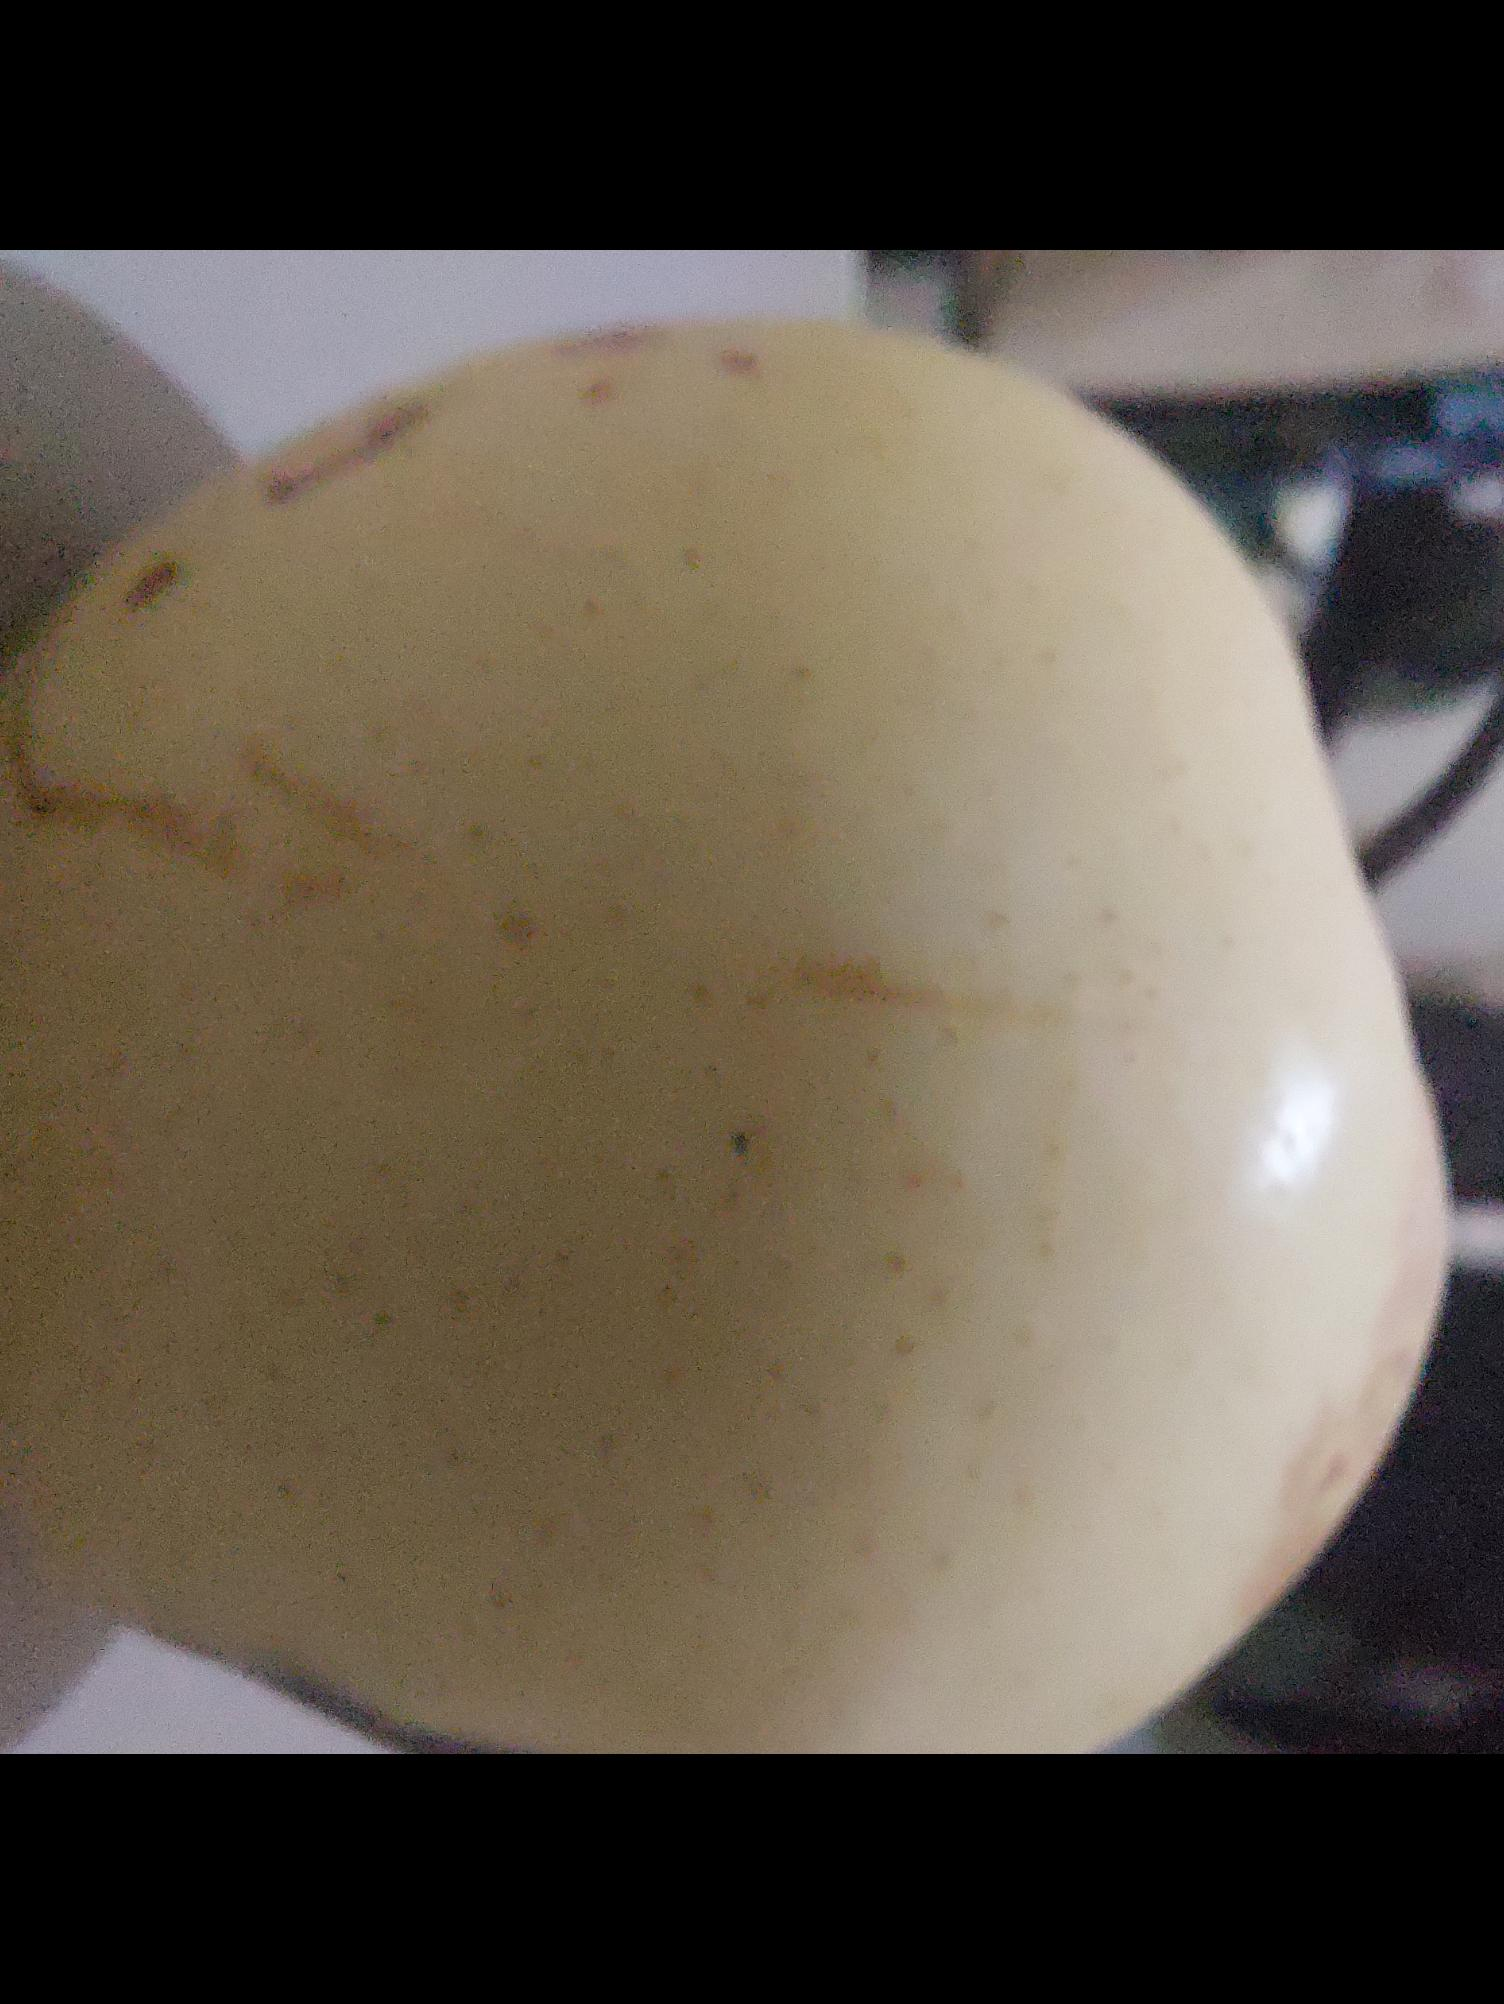Bad Pear: (0, 294, 1469, 1754)
